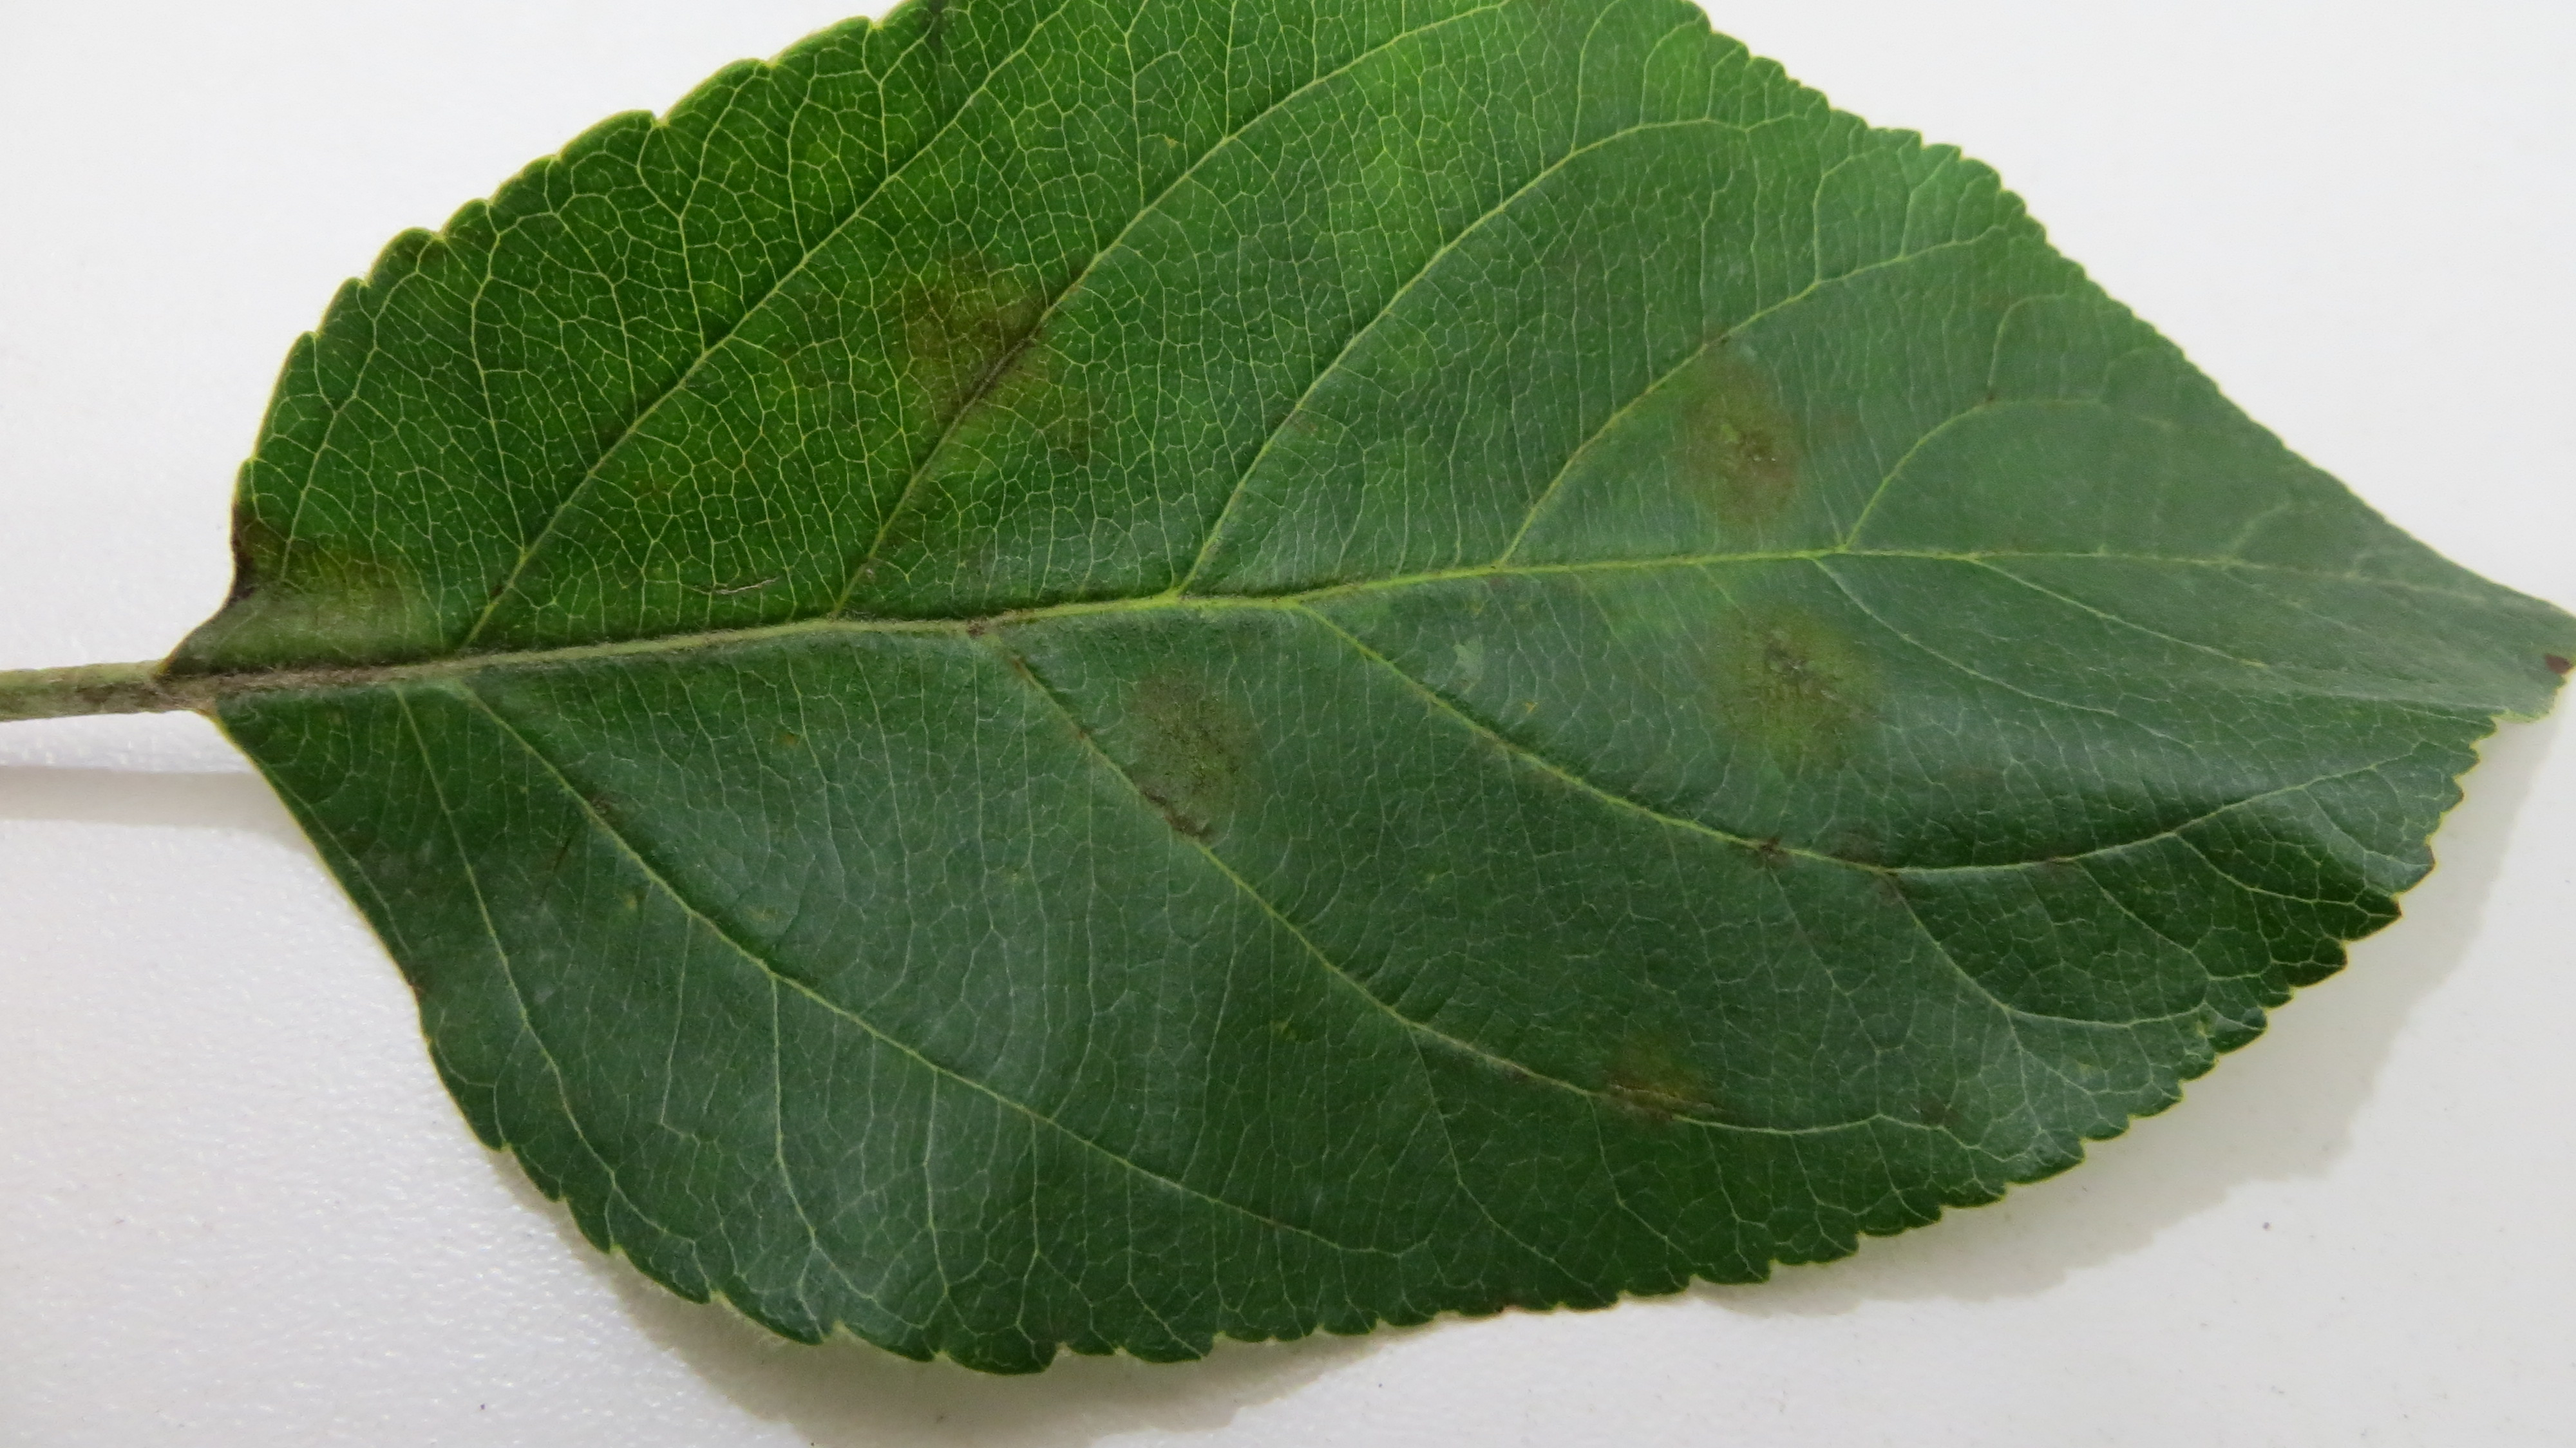sarna: (1686, 593, 1909, 804), (193, 506, 441, 683), (1100, 653, 1272, 890), (885, 264, 1063, 474), (1649, 315, 1819, 529), (1583, 1018, 1737, 1151)
